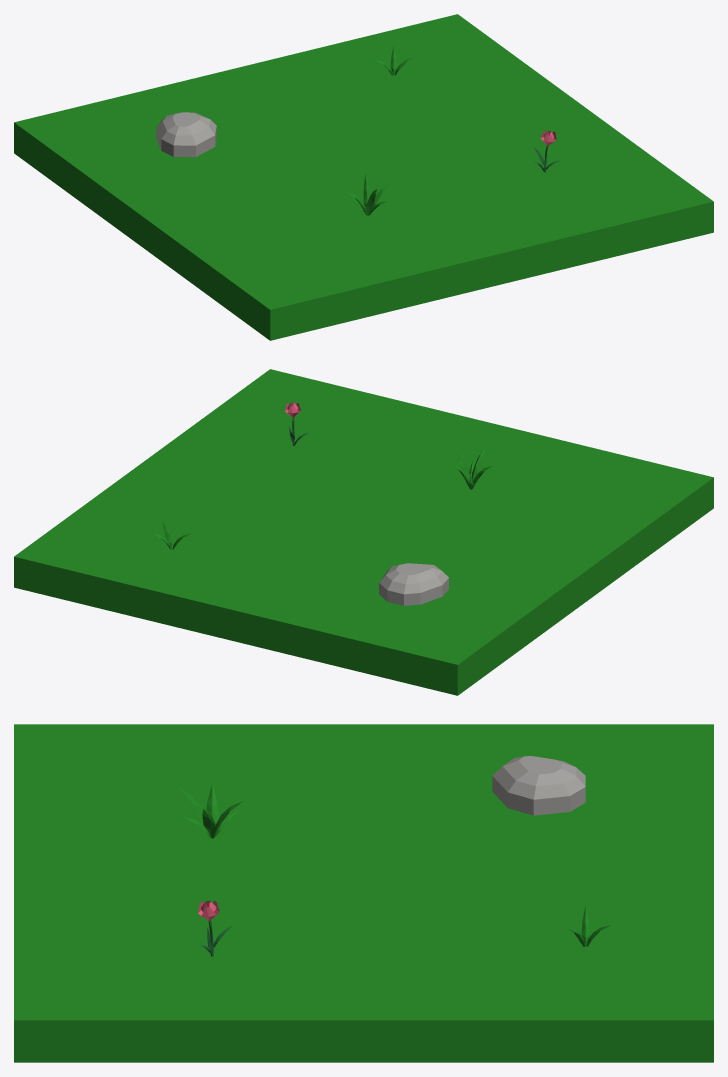
Rendered from field.fbx.
3 views of the same model, one above another, from view 1: azimuth 30°, elevation 25°; view 2: azimuth 150°, elevation 25°; view 3: azimuth 270°, elevation 25° (orthographic). The views are drawn at different scales.
Parts seen in each view (by area): view 1: Grass_Flat_6, Grass_Flat_8, Grass_Flat_7, Grass_Flat_2, Grass_Flat_3, Grass_Flat_4, Grass_Flat_5, Grass_Flat_1, Grass_Flat_0, Prop_Rock_3_10, Prop_Grass_Clump_4_9; view 2: Grass_Flat_3, Grass_Flat_4, Grass_Flat_5, Grass_Flat_6, Grass_Flat_2, Grass_Flat_0, Grass_Flat_1, Grass_Flat_8, Grass_Flat_7, Prop_Rock_3_10, Prop_Grass_Clump_4_9; view 3: Grass_Flat_1, Grass_Flat_8, Grass_Flat_5, Grass_Flat_0, Grass_Flat_2, Grass_Flat_4, Grass_Flat_7, Grass_Flat_6, Grass_Flat_3, Prop_Rock_3_10, Prop_Grass_Clump_4_9, Prop_Flower_Tulip_12.
Part boxes in pixels (left/top/right/bottom): Grass_Flat_6: left=184, top=211, right=417, bottom=340; Grass_Flat_8: left=481, top=139, right=713, bottom=268; Grass_Flat_7: left=333, top=175, right=565, bottom=304; Grass_Flat_2: left=99, top=149, right=332, bottom=277; Grass_Flat_3: left=14, top=86, right=246, bottom=215; Grass_Flat_4: left=162, top=50, right=394, bottom=148; Grass_Flat_5: left=310, top=14, right=542, bottom=112; Grass_Flat_1: left=395, top=76, right=627, bottom=174; Grass_Flat_0: left=247, top=113, right=480, bottom=210; Prop_Rock_3_10: left=156, top=112, right=216, bottom=157; Prop_Grass_Clump_4_9: left=347, top=174, right=391, bottom=215; Grass_Flat_3: left=310, top=573, right=543, bottom=695; Grass_Flat_4: left=162, top=530, right=392, bottom=659; Grass_Flat_5: left=14, top=494, right=246, bottom=623; Grass_Flat_6: left=481, top=441, right=713, bottom=570; Grass_Flat_2: left=397, top=504, right=628, bottom=632; Grass_Flat_0: left=247, top=468, right=480, bottom=565; Grass_Flat_1: left=100, top=431, right=332, bottom=529; Grass_Flat_8: left=185, top=369, right=417, bottom=467; Grass_Flat_7: left=333, top=405, right=565, bottom=503; Prop_Rock_3_10: left=379, top=563, right=448, bottom=605; Prop_Grass_Clump_4_9: left=451, top=445, right=492, bottom=489; Grass_Flat_1: left=247, top=921, right=480, bottom=1062; Grass_Flat_8: left=14, top=921, right=247, bottom=1062; Grass_Flat_5: left=480, top=921, right=713, bottom=1062; Grass_Flat_0: left=247, top=823, right=480, bottom=921; Grass_Flat_2: left=247, top=724, right=480, bottom=822; Grass_Flat_4: left=480, top=823, right=713, bottom=921; Grass_Flat_7: left=14, top=823, right=247, bottom=921; Grass_Flat_6: left=14, top=724, right=247, bottom=822; Grass_Flat_3: left=480, top=724, right=713, bottom=822; Prop_Rock_3_10: left=492, top=756, right=585, bottom=815; Prop_Grass_Clump_4_9: left=178, top=783, right=242, bottom=838; Prop_Flower_Tulip_12: left=198, top=900, right=232, bottom=956.
Bounding box in the file's own units: 30 × 4.65 × 30.
